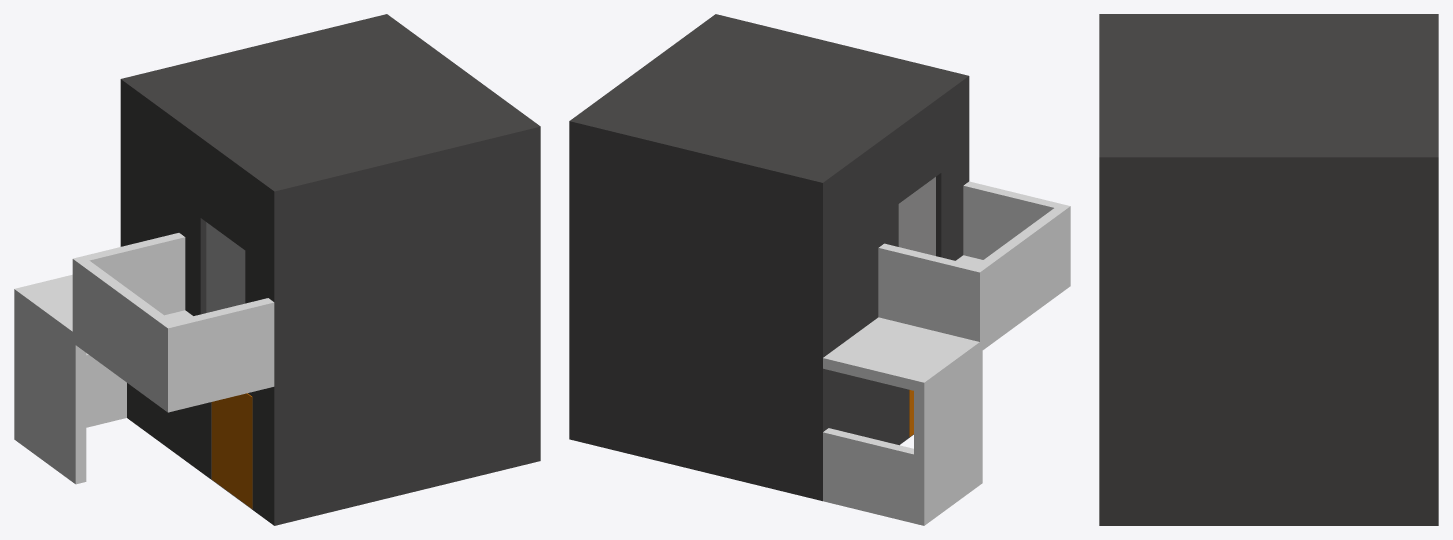
Rendered from house1Fix.fbx.
The picture shows the model from 3 angles, left to right: view 1: azimuth 30°, elevation 25°; view 2: azimuth 150°, elevation 25°; view 3: azimuth 270°, elevation 25°; orthographic projection. The views are drawn at different scales.
Visible parts, largest first — view 1: House2, pCube1; view 2: House2; view 3: House2.
Boxes of the visible parts, x1,y1,x2,y2 form: House2: (14, 14, 540, 525); pCube1: (211, 393, 252, 508); House2: (569, 14, 1070, 525); House2: (1099, 14, 1438, 525).
Size of the model in its own units: 700 by 600 by 500.
